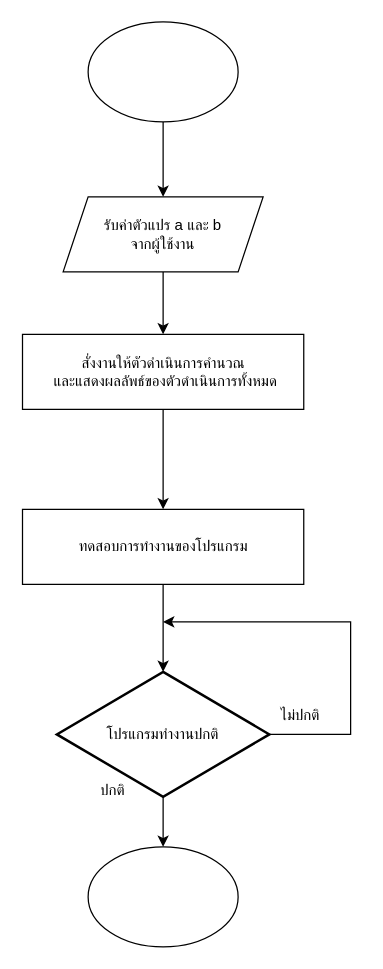
Some shapes in this 383 by 969 pixel diagram are drawn without their labels. Each missing label, with the centre of its shape:
start: (x=162, y=71)
จบ: (x=162, y=896)
